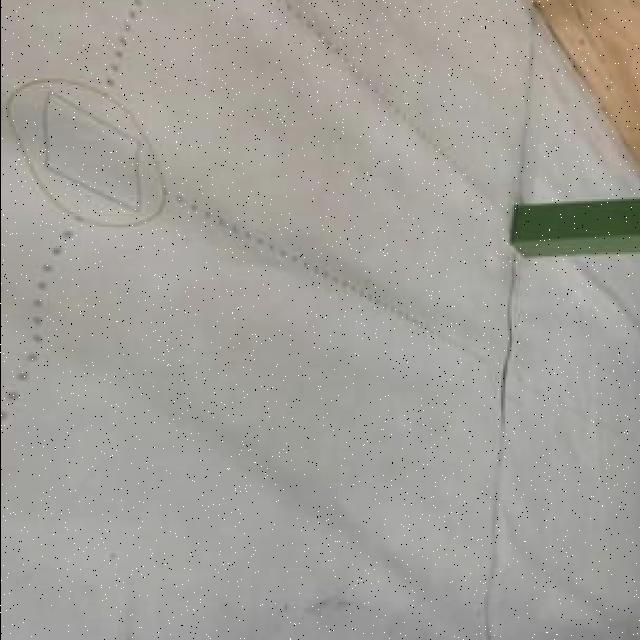greenbox: (509, 198, 640, 259)
